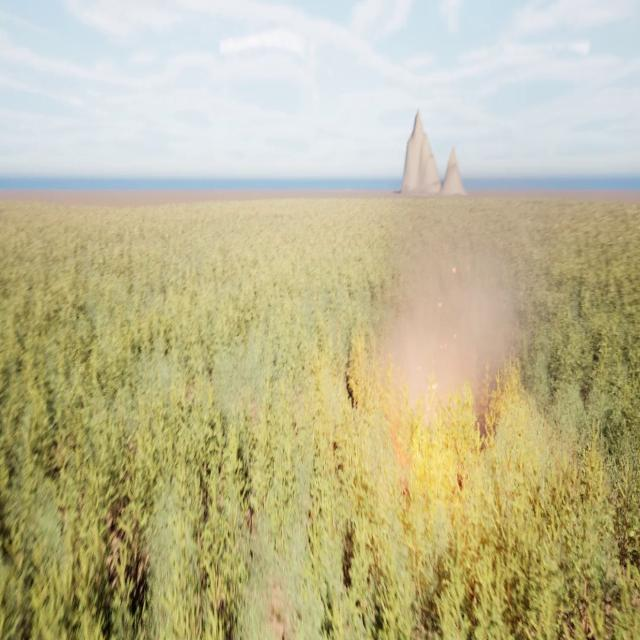smoke: (383, 242, 516, 441)
